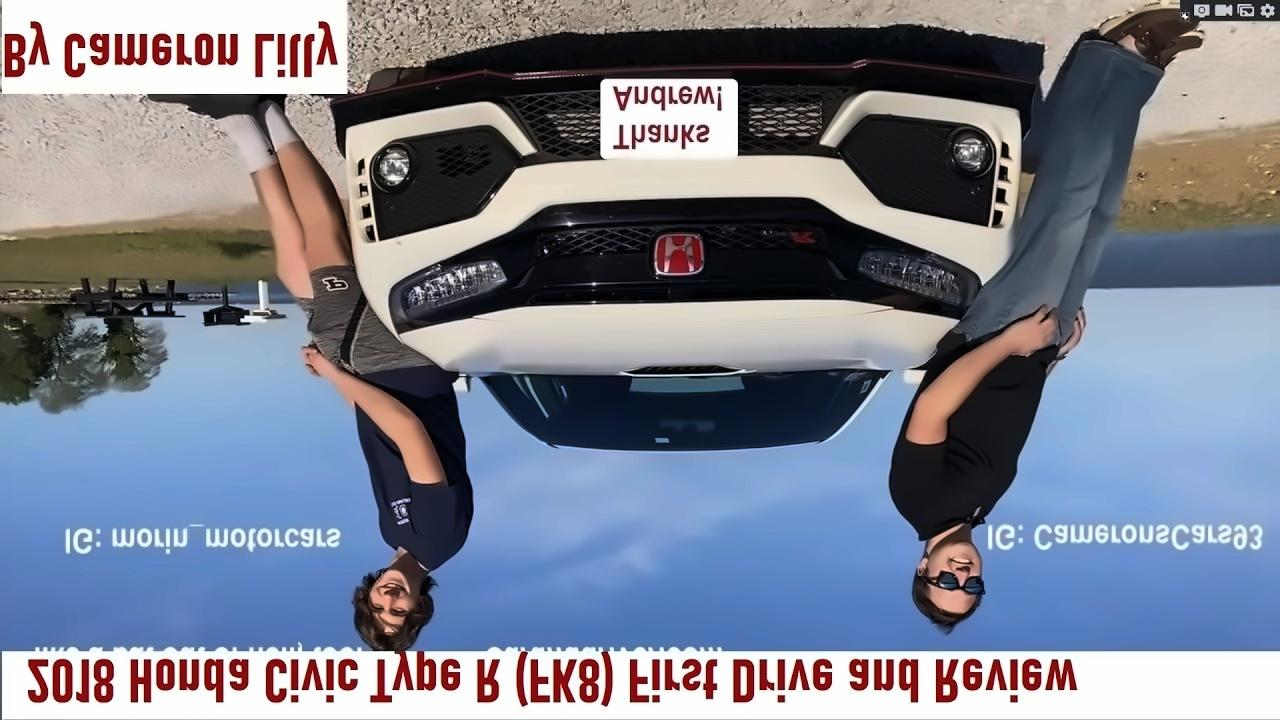Car hood: (386, 296, 961, 377)
Front bumper: (328, 37, 1038, 266)
Headlight - -L-: (393, 256, 511, 334)
Headlight - -R-: (849, 240, 980, 315)
